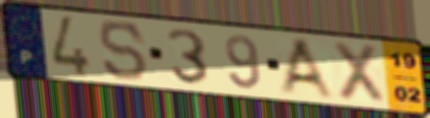3: (165, 27, 211, 86)
4: (49, 14, 94, 78)
9: (223, 32, 262, 91)
A: (277, 36, 340, 102)
S: (97, 19, 151, 82)
X: (330, 39, 388, 107)
